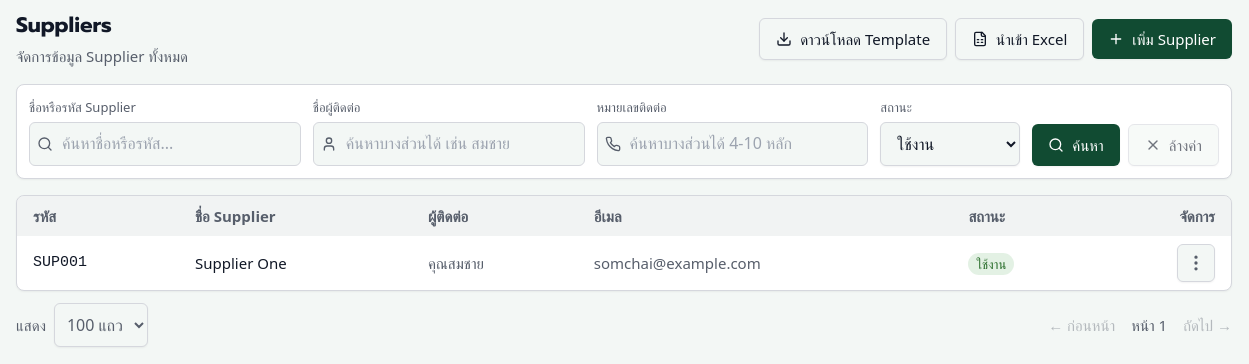
Test: Suppliers — contact and status filters (round 8-20D) › strips non-digits from the contact-number box as they are typed
The image size is (1249, 364).
Expected: the text "SUP001" is shown, x1=17 y1=236 x2=179 y2=290
Type "084-555-2162" into the field labelled "หมายเลขติดต่อ".
click(732, 144); type("084-555-2162")  # box x1=597 y1=122 x2=868 y2=166
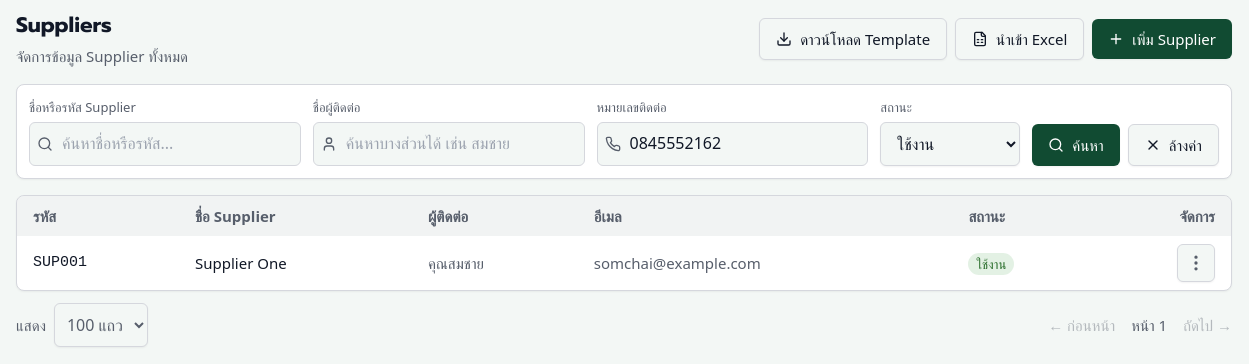
Expected: the field labelled "หมายเลขติดต่อ" holds "0845552162"
Replace the text in the field labelled "หมายเลขติดต่อ" with "55%2_" at (732, 144), box x1=597 y1=122 x2=868 y2=166
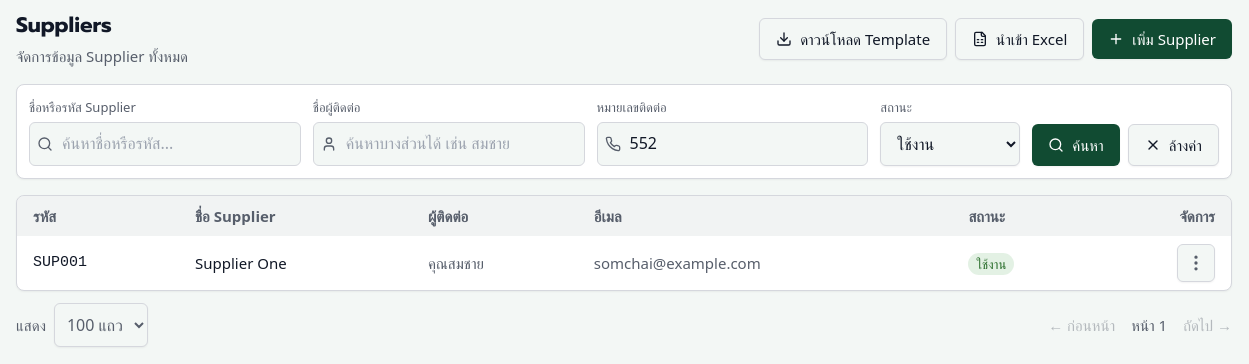
Expected: the field labelled "หมายเลขติดต่อ" holds "552", x1=597 y1=122 x2=868 y2=166
